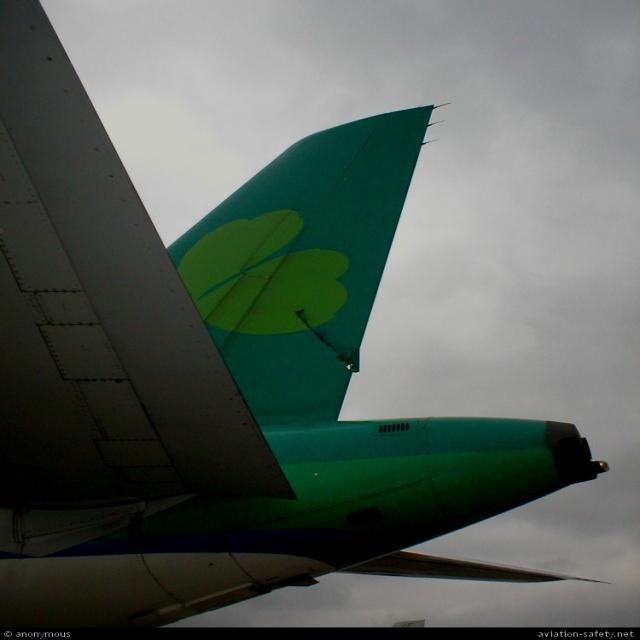crack: (294, 303, 364, 375)
